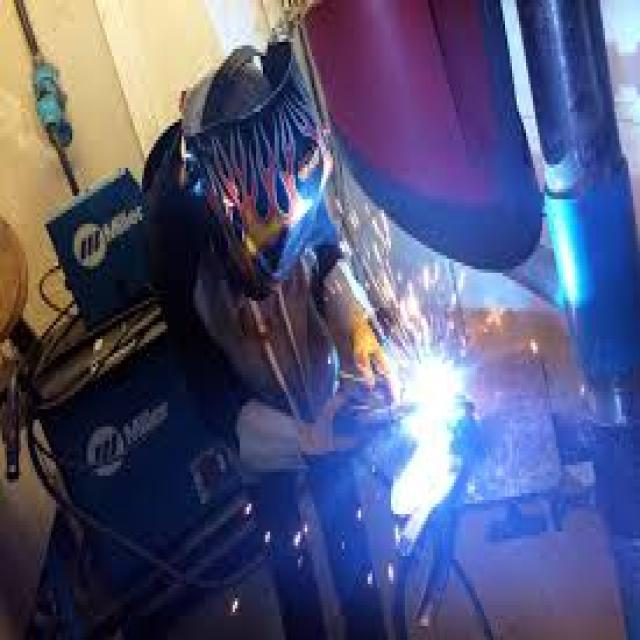welding: (405, 356, 458, 426)
